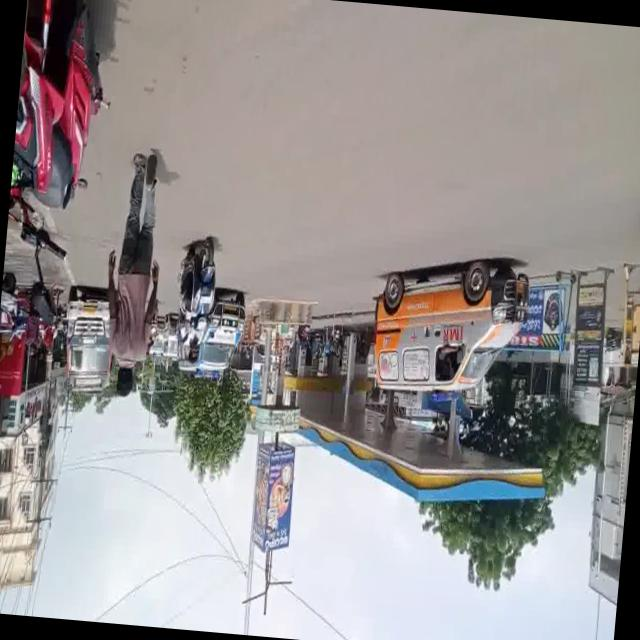ambulance: (350, 250, 549, 421), (45, 278, 116, 408), (193, 298, 246, 375)
